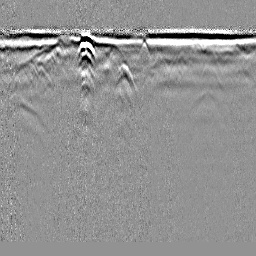cavity: (116, 60, 137, 90)
